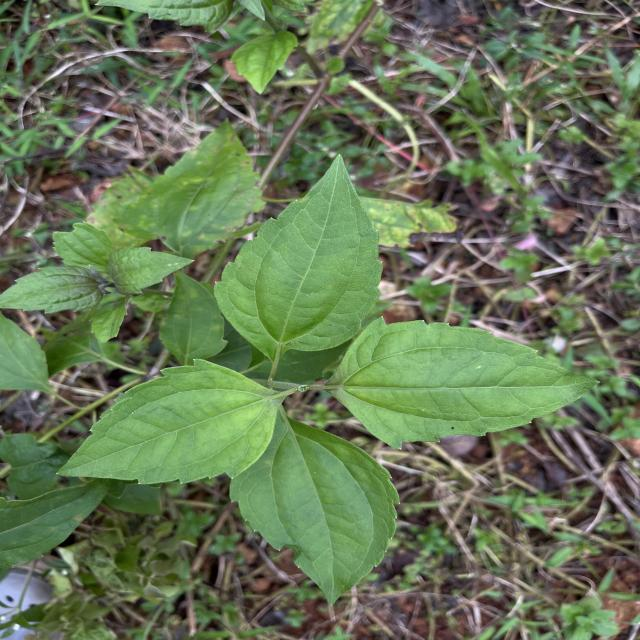Chromolaena odorata: (325, 313, 605, 453), (210, 150, 388, 364), (224, 412, 404, 608), (50, 355, 285, 488)
